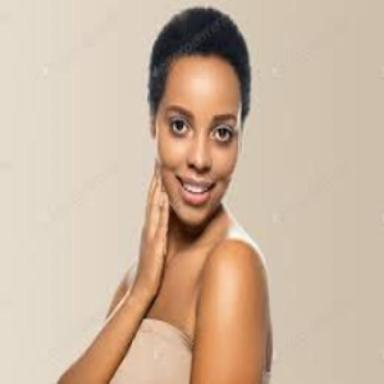normal skin: (58, 55, 269, 384)
